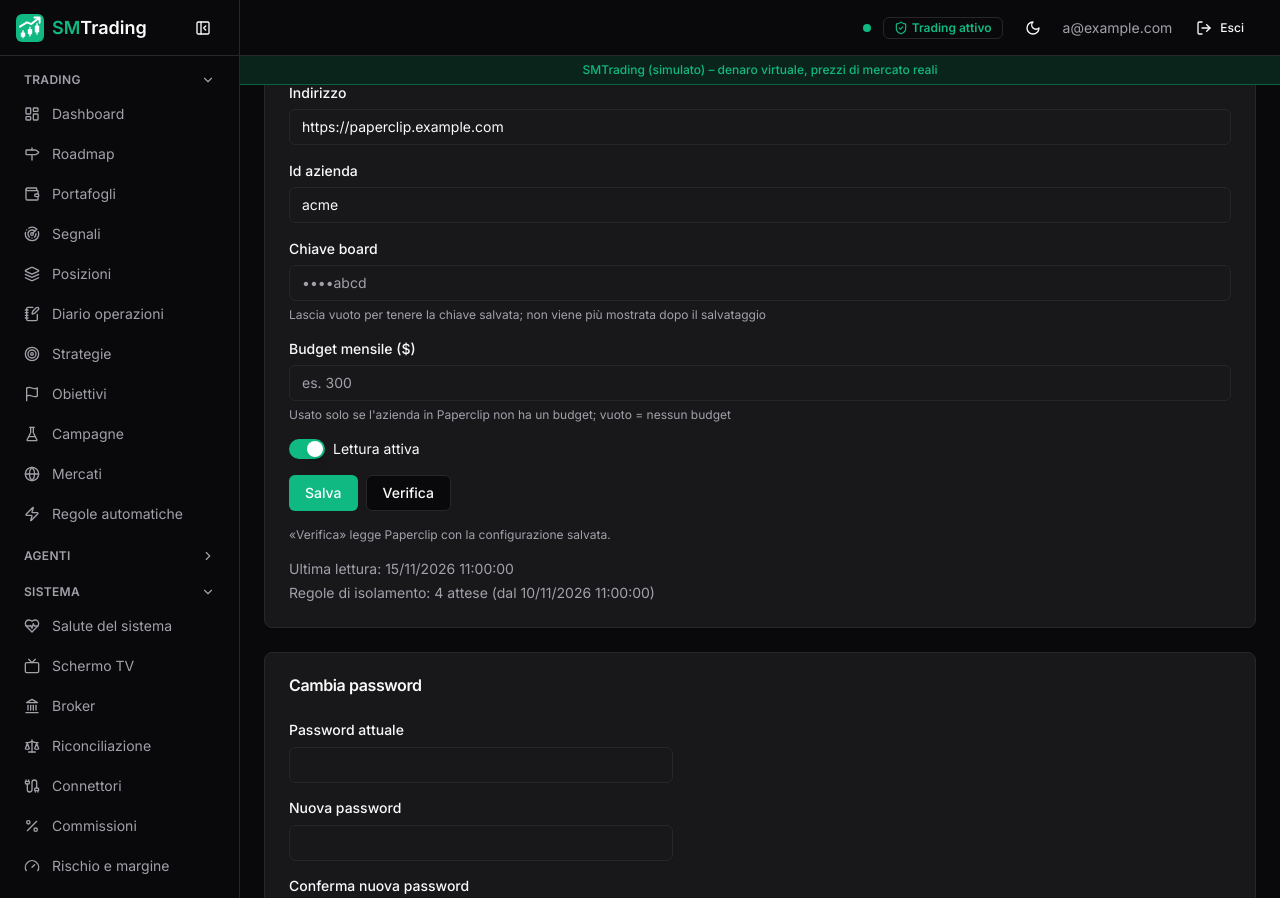
Test: PaperclipSection › verify with no Paperclip agents shows the empty row
(page scrolled)
What coordinates should you click on to do the following:
click the button "Verifica"
I would click on:
 (408, 492)
Its box is [366,474,451,510].
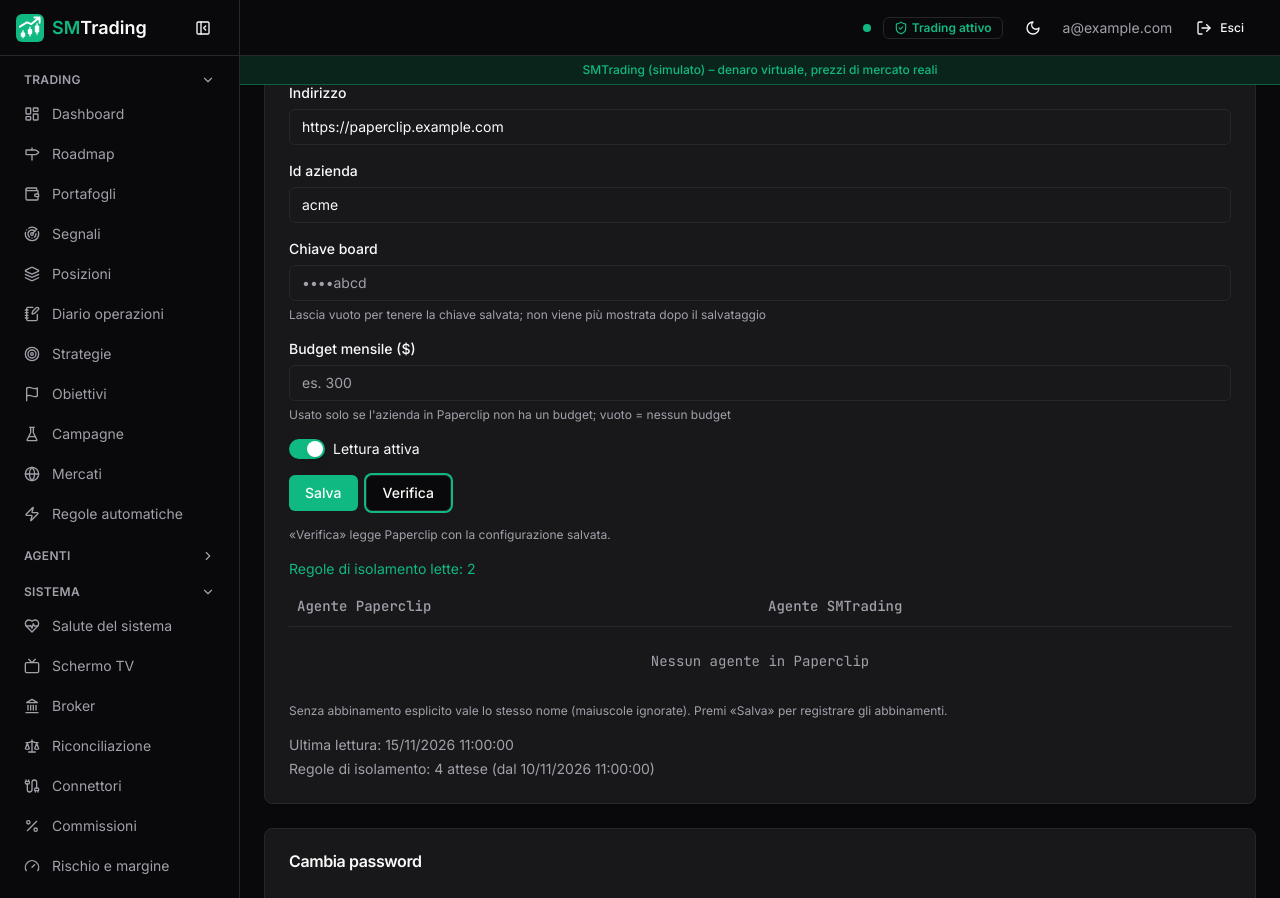
Expected: the table named "Agenti Paperclip" shows "Nessun agente in Paperclip", [651,652,869,670]
